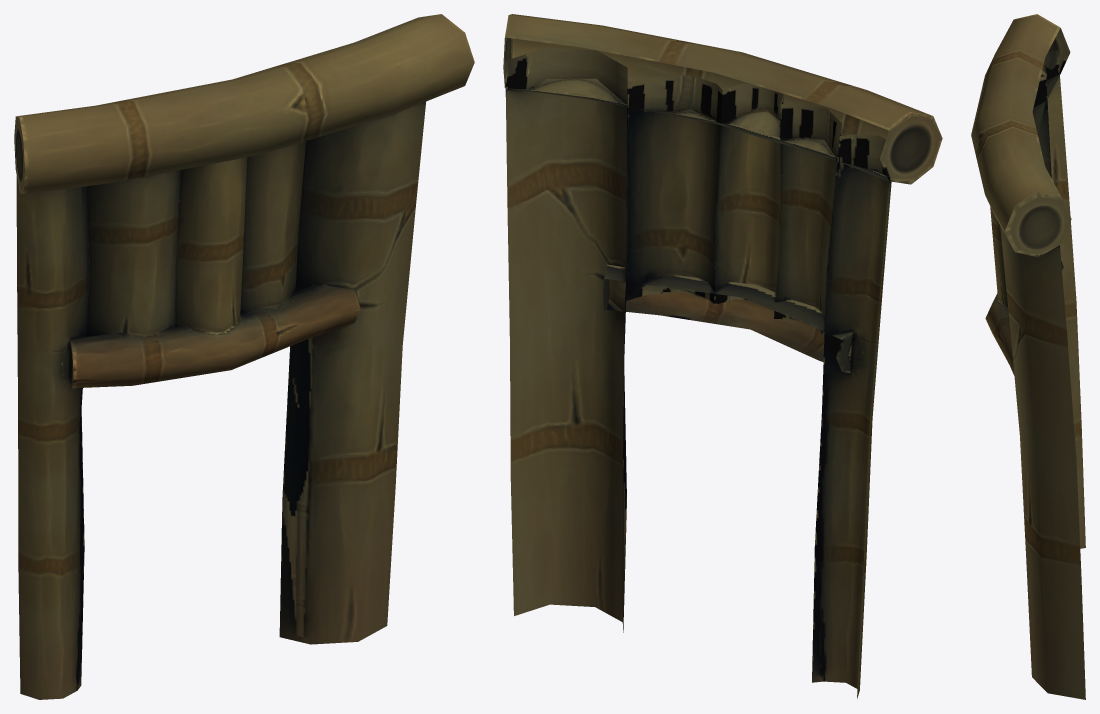
Rendered from bamboo_house_doorwall.FBX.
3 views of the same model, side by side, from view 1: azimuth 30°, elevation 25°; view 2: azimuth 150°, elevation 25°; view 3: azimuth 270°, elevation 25° (orthographic). The views are drawn at different scales.
Visible parts, largest first — view 1: bamboo_house_doorwall; view 2: bamboo_house_doorwall; view 3: bamboo_house_doorwall.
Part boxes in pixels (left/top/right/bottom): bamboo_house_doorwall: left=14, top=14, right=474, bottom=699; bamboo_house_doorwall: left=503, top=14, right=942, bottom=698; bamboo_house_doorwall: left=971, top=14, right=1085, bottom=699.
Size of the model in its own units: 287 by 368 by 73.39.
